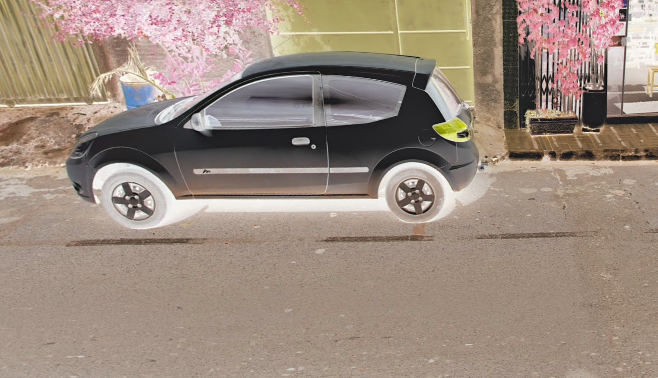car: (68, 51, 474, 235)
